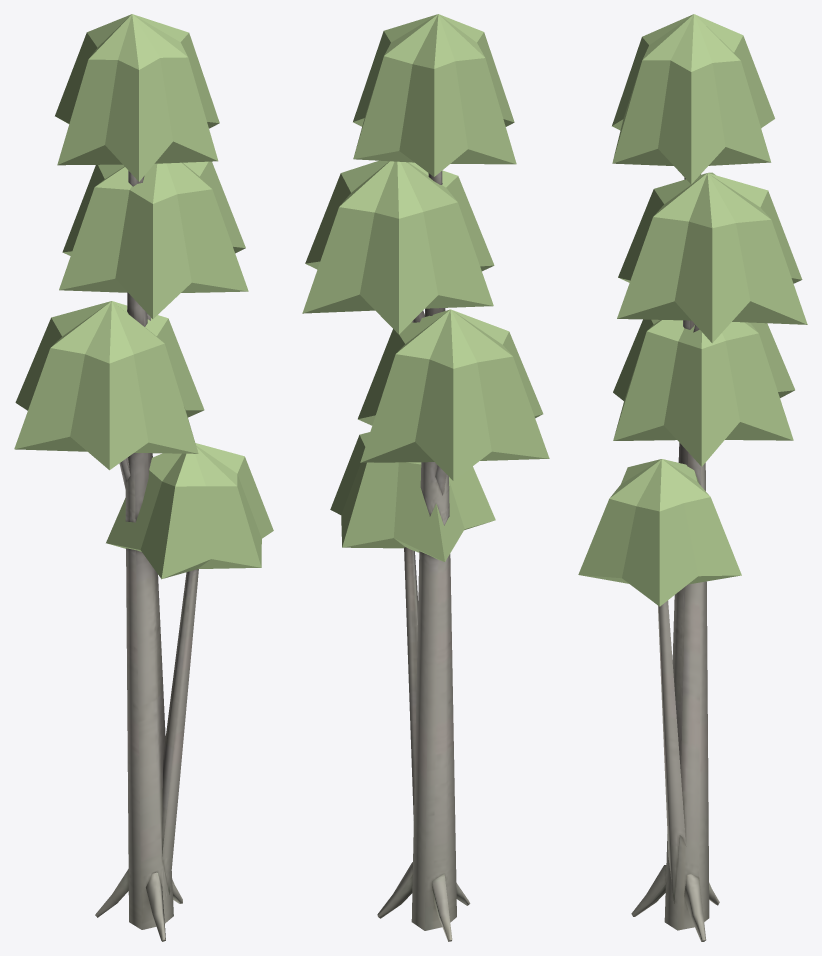
Rendered from arv_betula_5.glb.
The picture shows the model from 3 angles, left to right: view 1: azimuth 30°, elevation 25°; view 2: azimuth 150°, elevation 25°; view 3: azimuth 270°, elevation 25°; orthographic projection.
Visible parts, largest first — view 1: arv_betula_5_corpo; view 2: arv_betula_5_corpo; view 3: arv_betula_5_corpo.
Boxes of the visible parts, x1,y1,x2,y2 form: arv_betula_5_corpo: [14, 14, 273, 941]; arv_betula_5_corpo: [302, 14, 549, 941]; arv_betula_5_corpo: [578, 14, 807, 941].
Bounding box in the file's own units: 0.7156 × 2.6 × 0.5985.
2 materials, 1 textured.
